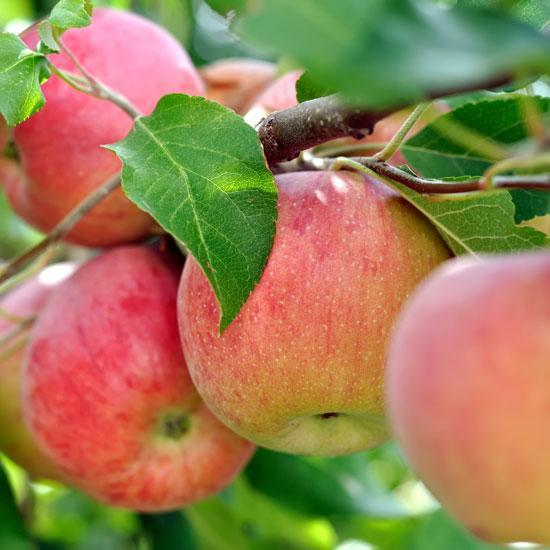apple: (178, 172, 461, 454), (14, 255, 255, 510), (6, 5, 207, 247)
